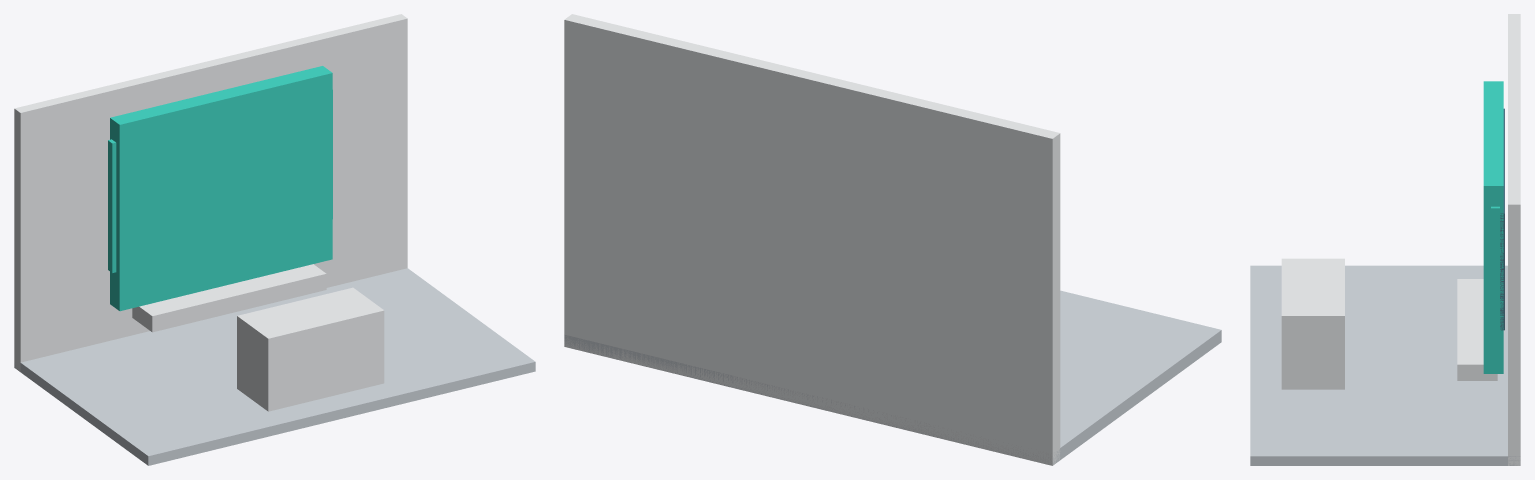
3 renders of one model, left to right at view 1: azimuth 30°, elevation 25°; view 2: azimuth 150°, elevation 25°; view 3: azimuth 270°, elevation 25°, orthographic. The views are drawn at different scales.
Parts seen in each view (by area): view 1: Exhibition Booth Concept; view 2: Exhibition Booth Concept; view 3: Exhibition Booth Concept.
Part boxes in pixels (<box>): Exhibition Booth Concept: <box>14,14,535,465</box>; Exhibition Booth Concept: <box>564,14,1221,465</box>; Exhibition Booth Concept: <box>1250,14,1520,465</box>.
Bounding box in the file's own units: 5 × 3.2 × 3.
